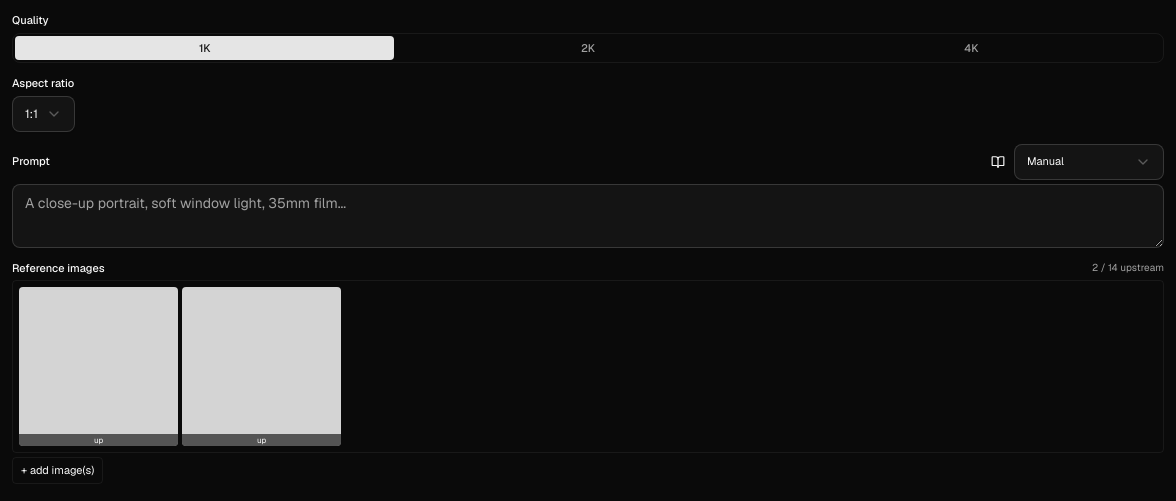
Nano Banana 2 prompt presets › fills the prompt textarea from a saved user prompt
Step 1. Click the button named "prompt presets" → (998, 162), box x1=986 y1=150 x2=1010 y2=174
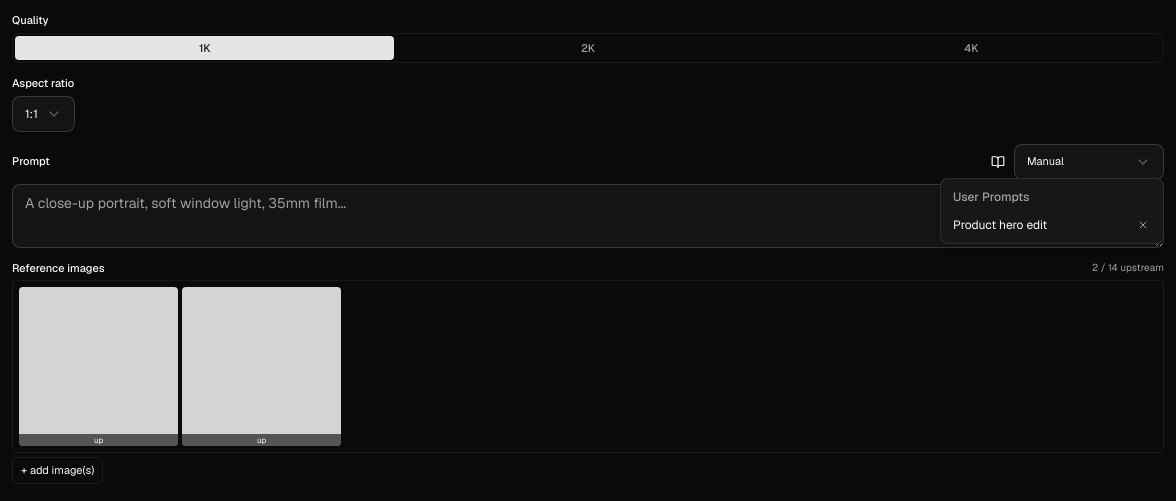
Step 2. Click the menu item "Product hero edit" → (1000, 225), box x1=953 y1=217 x2=1151 y2=233
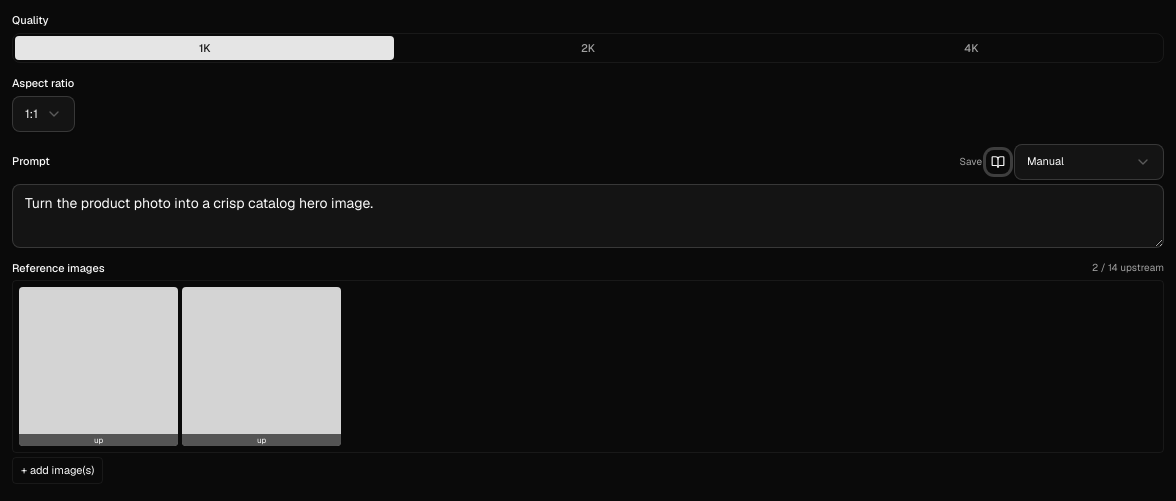
Now the text box named "Prompt" holds "Turn the product photo into a crisp catalog hero image.", box x1=12 y1=184 x2=1164 y2=248
